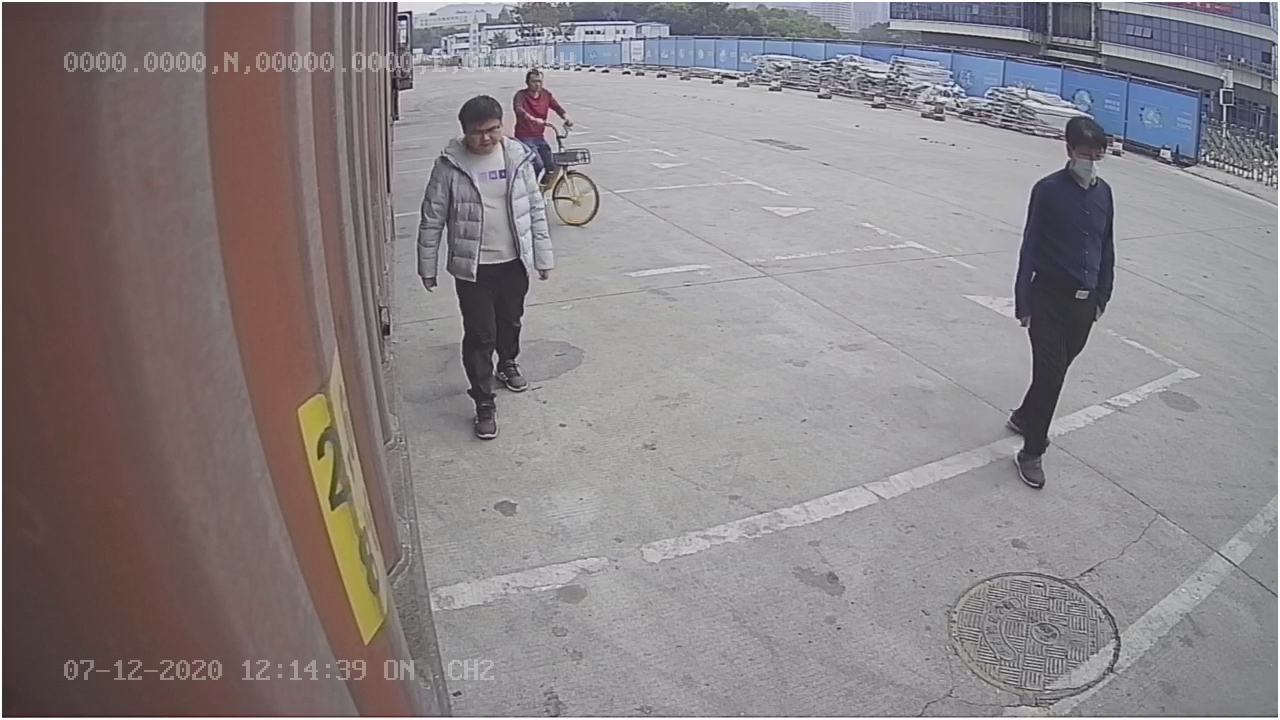person: (1008, 112, 1120, 492)
